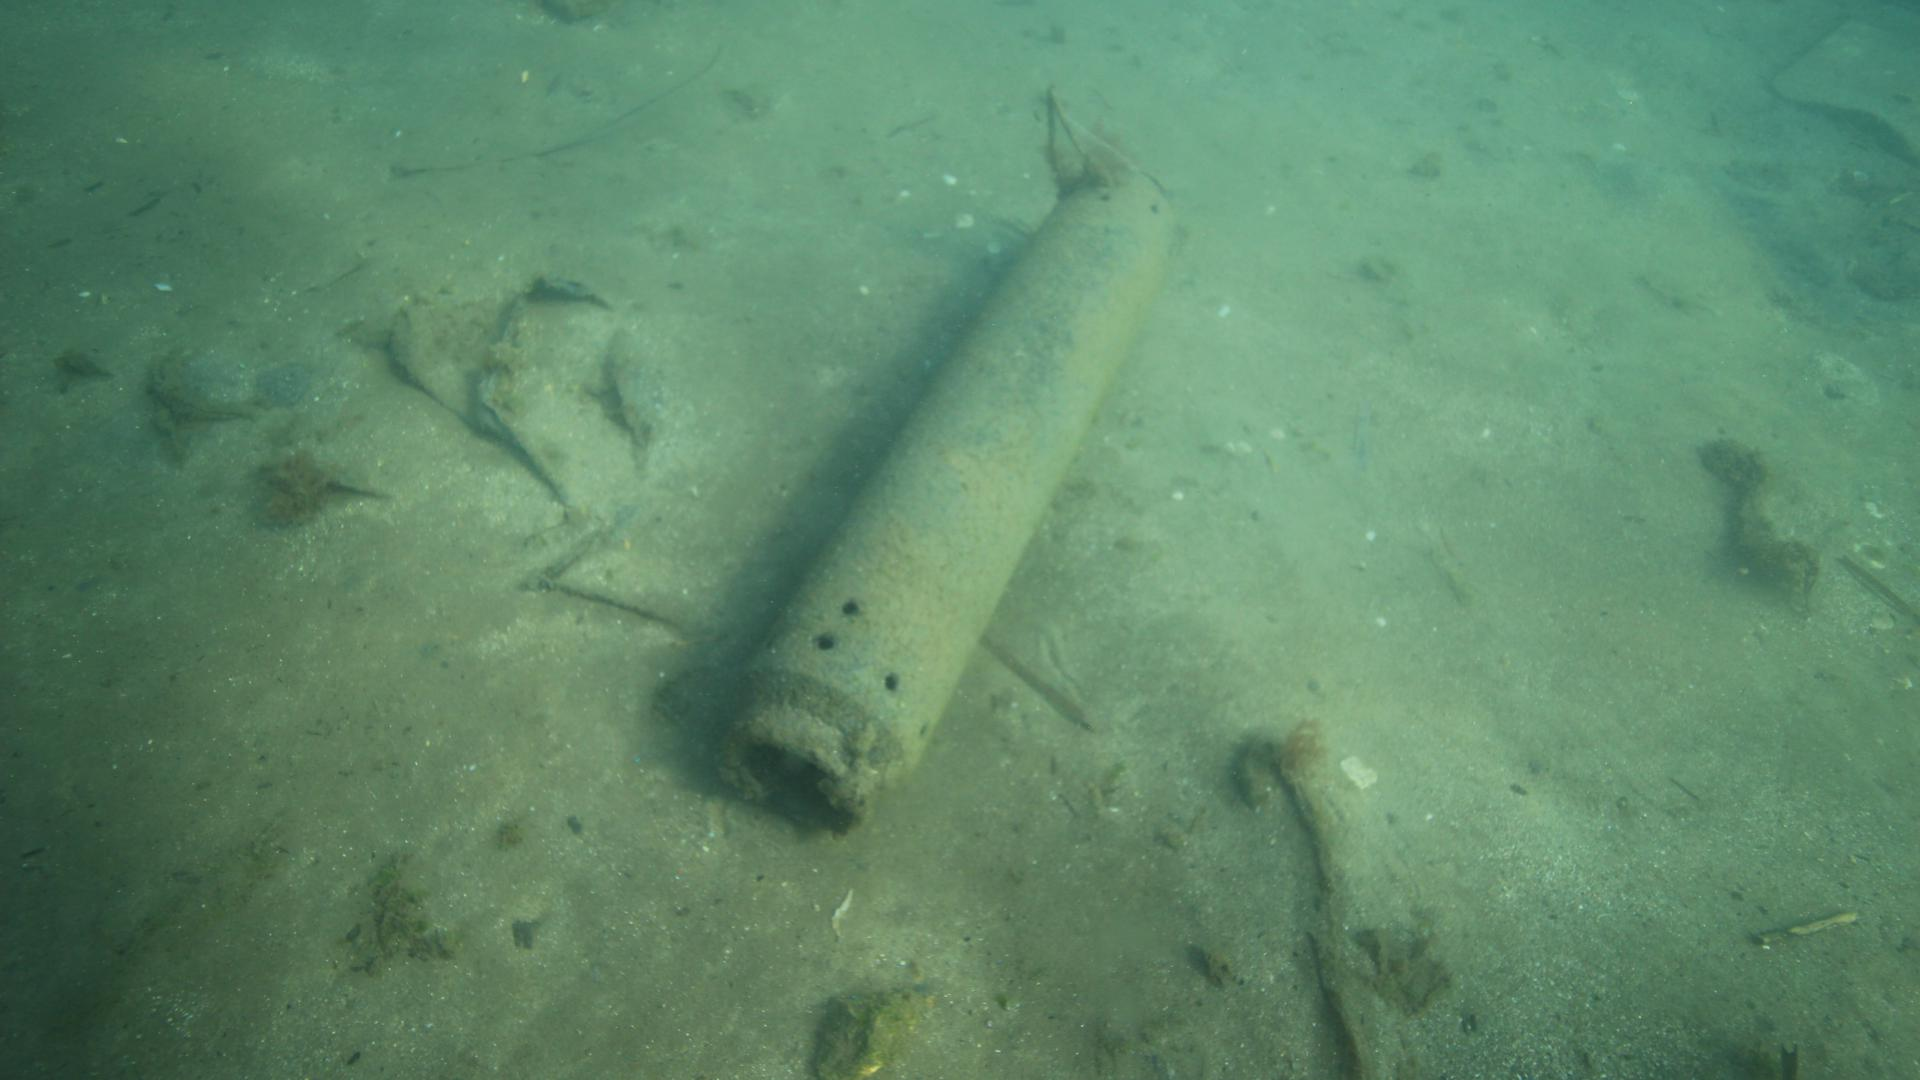eel fish trap: (712, 164, 1182, 837)
rope: (1039, 80, 1112, 196)
